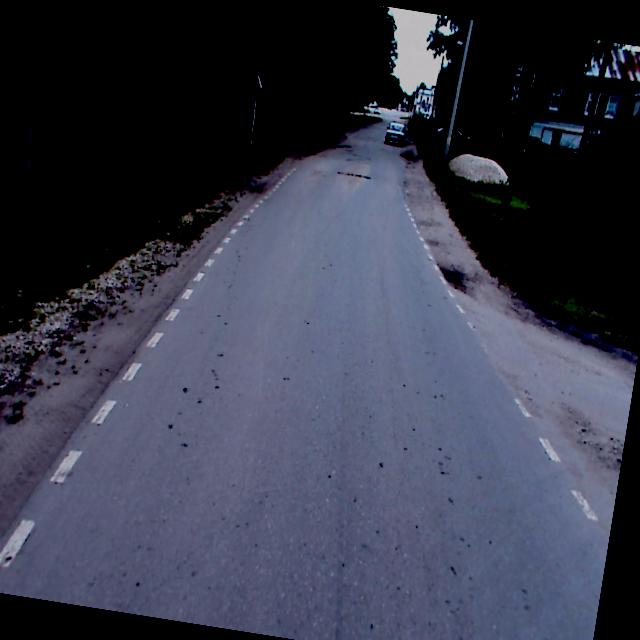road: (0, 106, 634, 640)
